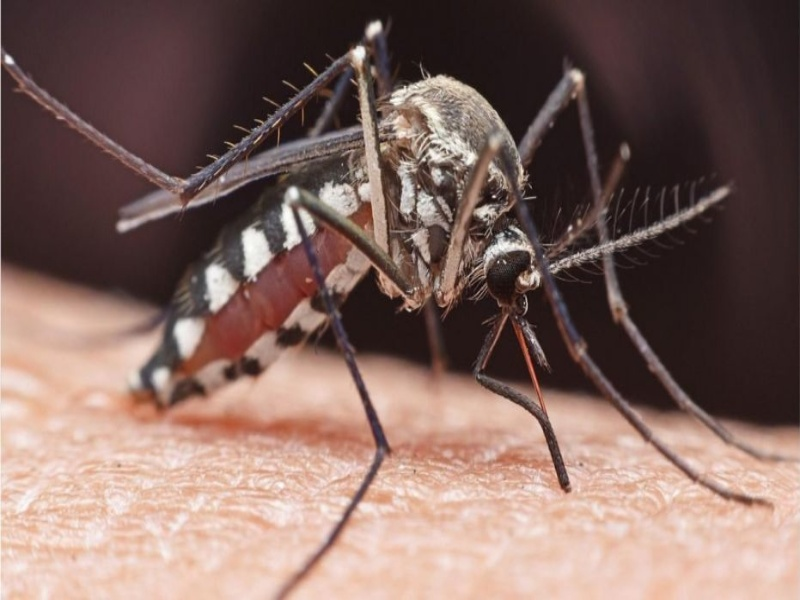dengue_mosquito: (139, 48, 647, 334)
